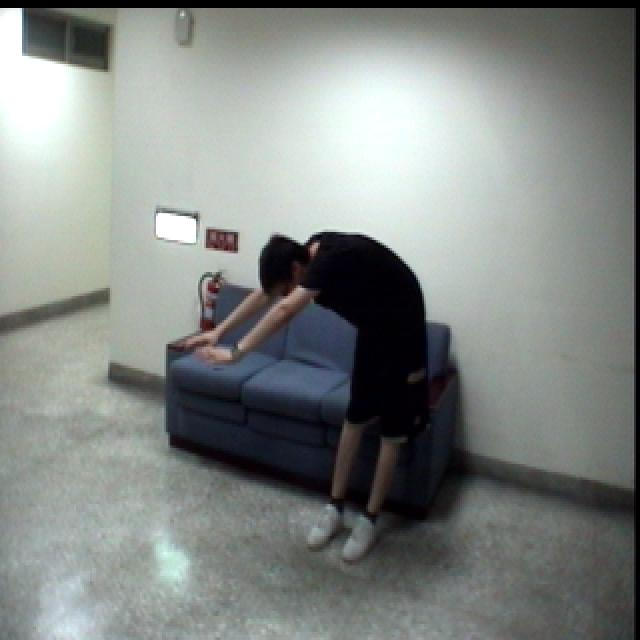bend: (175, 221, 438, 578)
